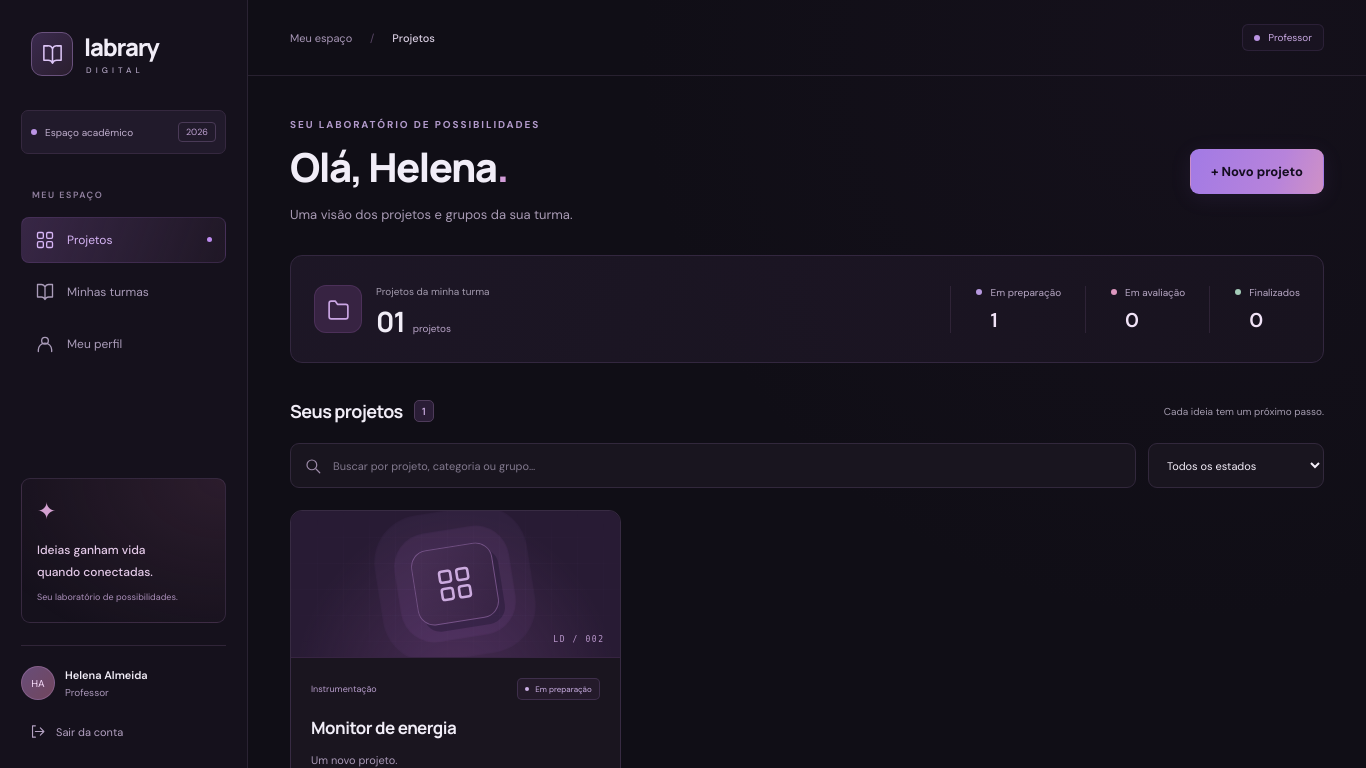
HU01: interface › encerra sessão quando criação de projeto retorna 401
Check: the link "Monitor de energia" is shown, box x1=311 y1=716 x2=456 y2=740
Click the button "+ Novo projeto" at (1257, 171), box x1=1190 y1=148 x2=1324 y2=194
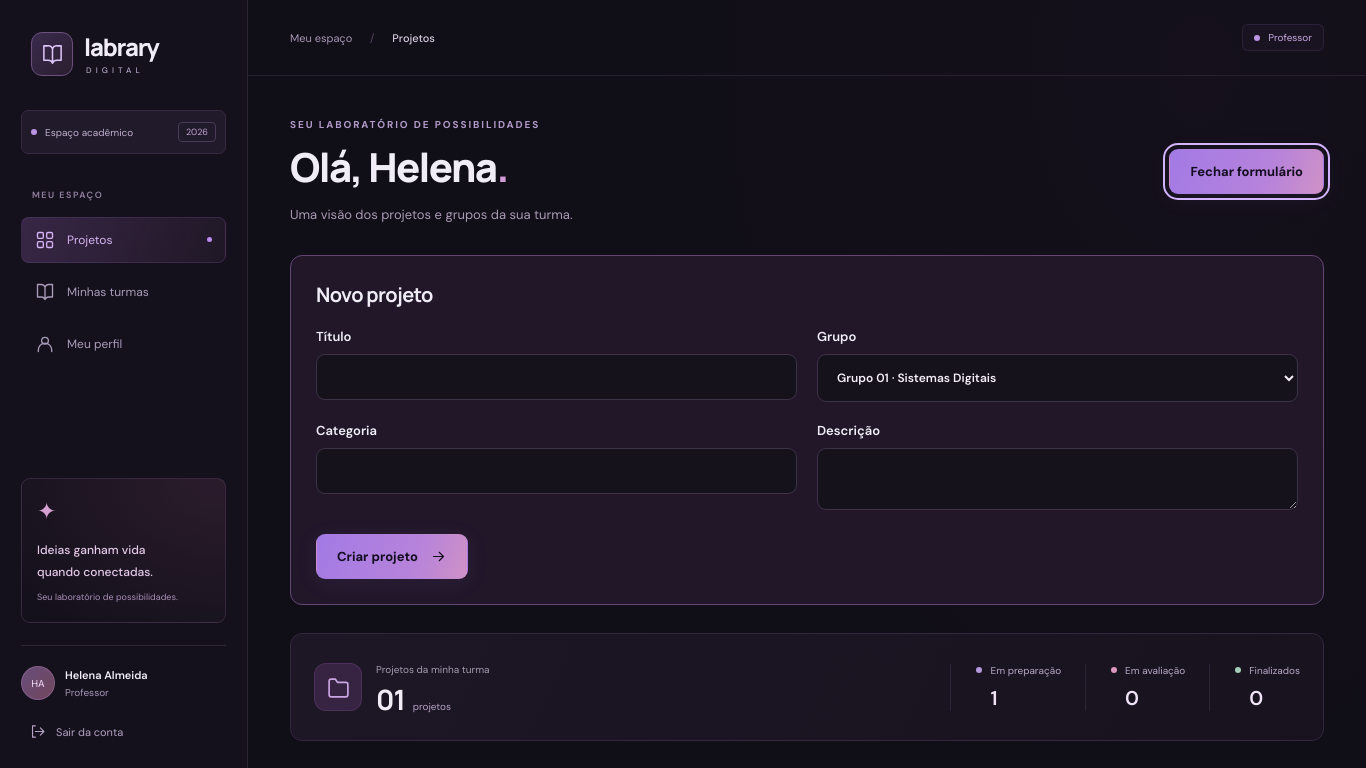
Type "Novo projeto" into the field labelled "Título" at (556, 377), box x1=316 y1=354 x2=797 y2=400
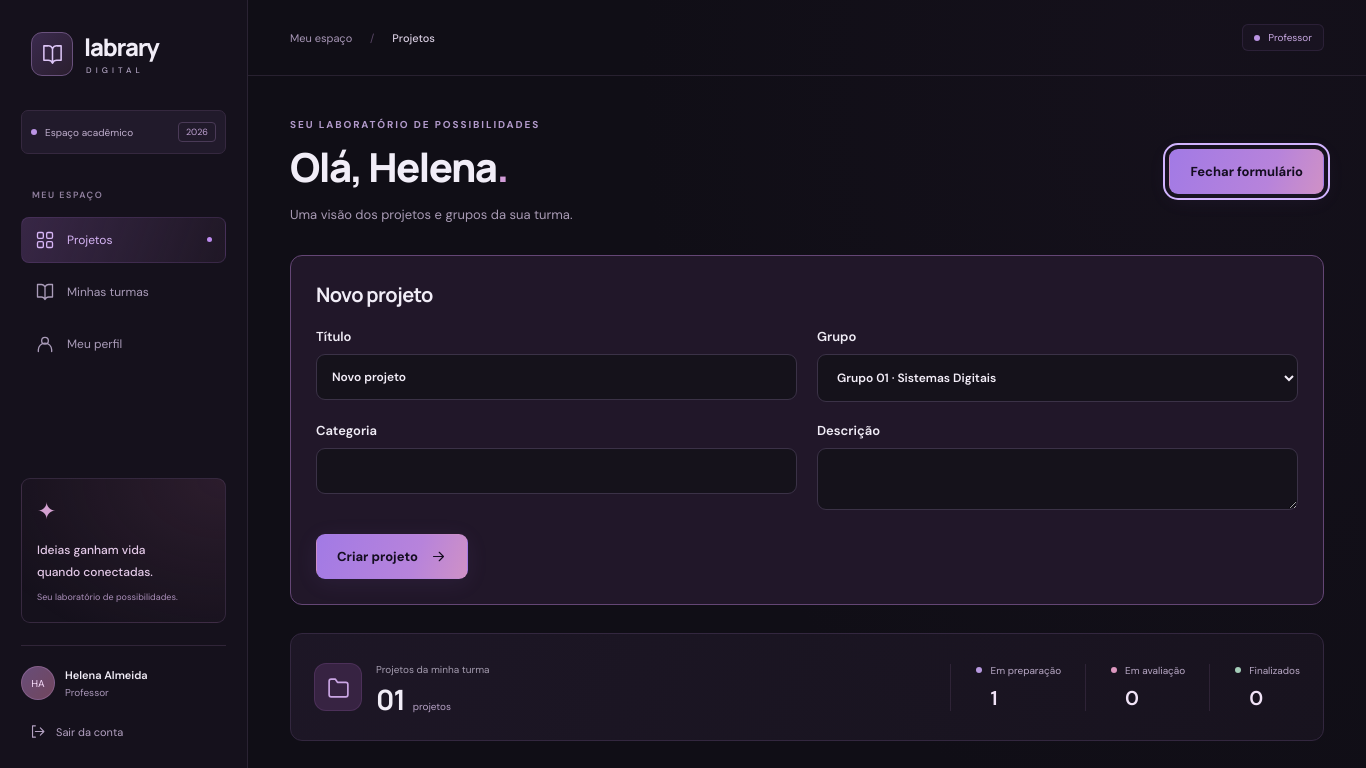
Type "Categoria" into the field labelled "Categoria" at (556, 471), box x1=316 y1=448 x2=797 y2=494
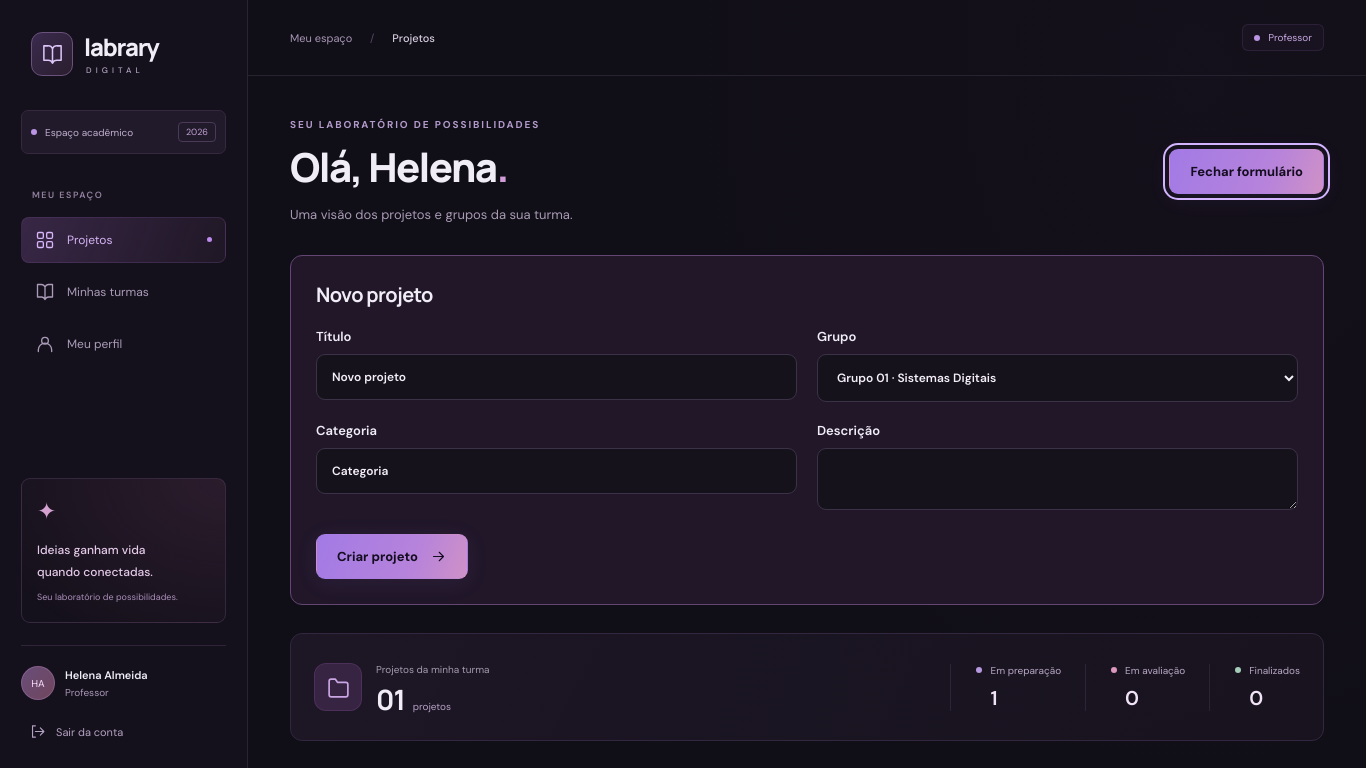
Click the button "Criar projeto" at (392, 557), box x1=316 y1=534 x2=468 y2=579
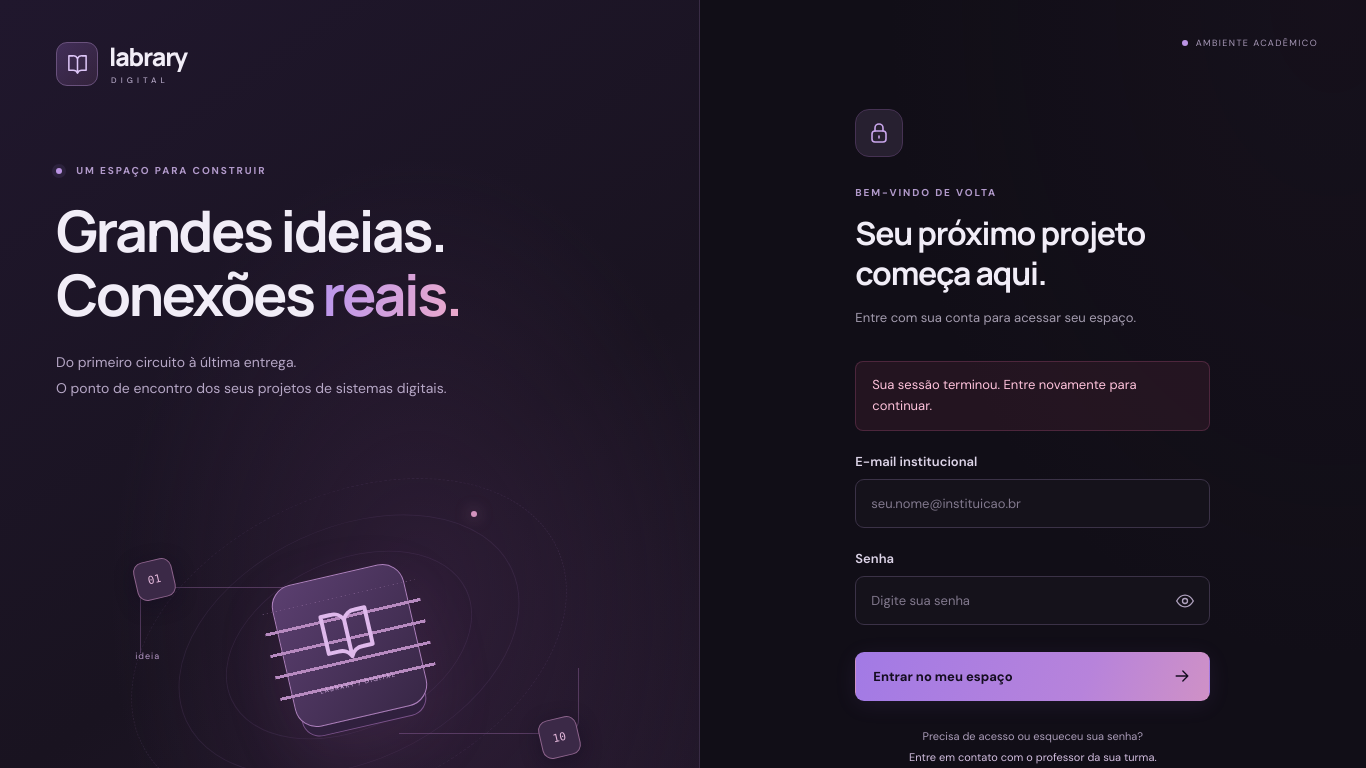
Check: the button "Entrar no meu espaço" is shown, box x1=855 y1=652 x2=1210 y2=701
